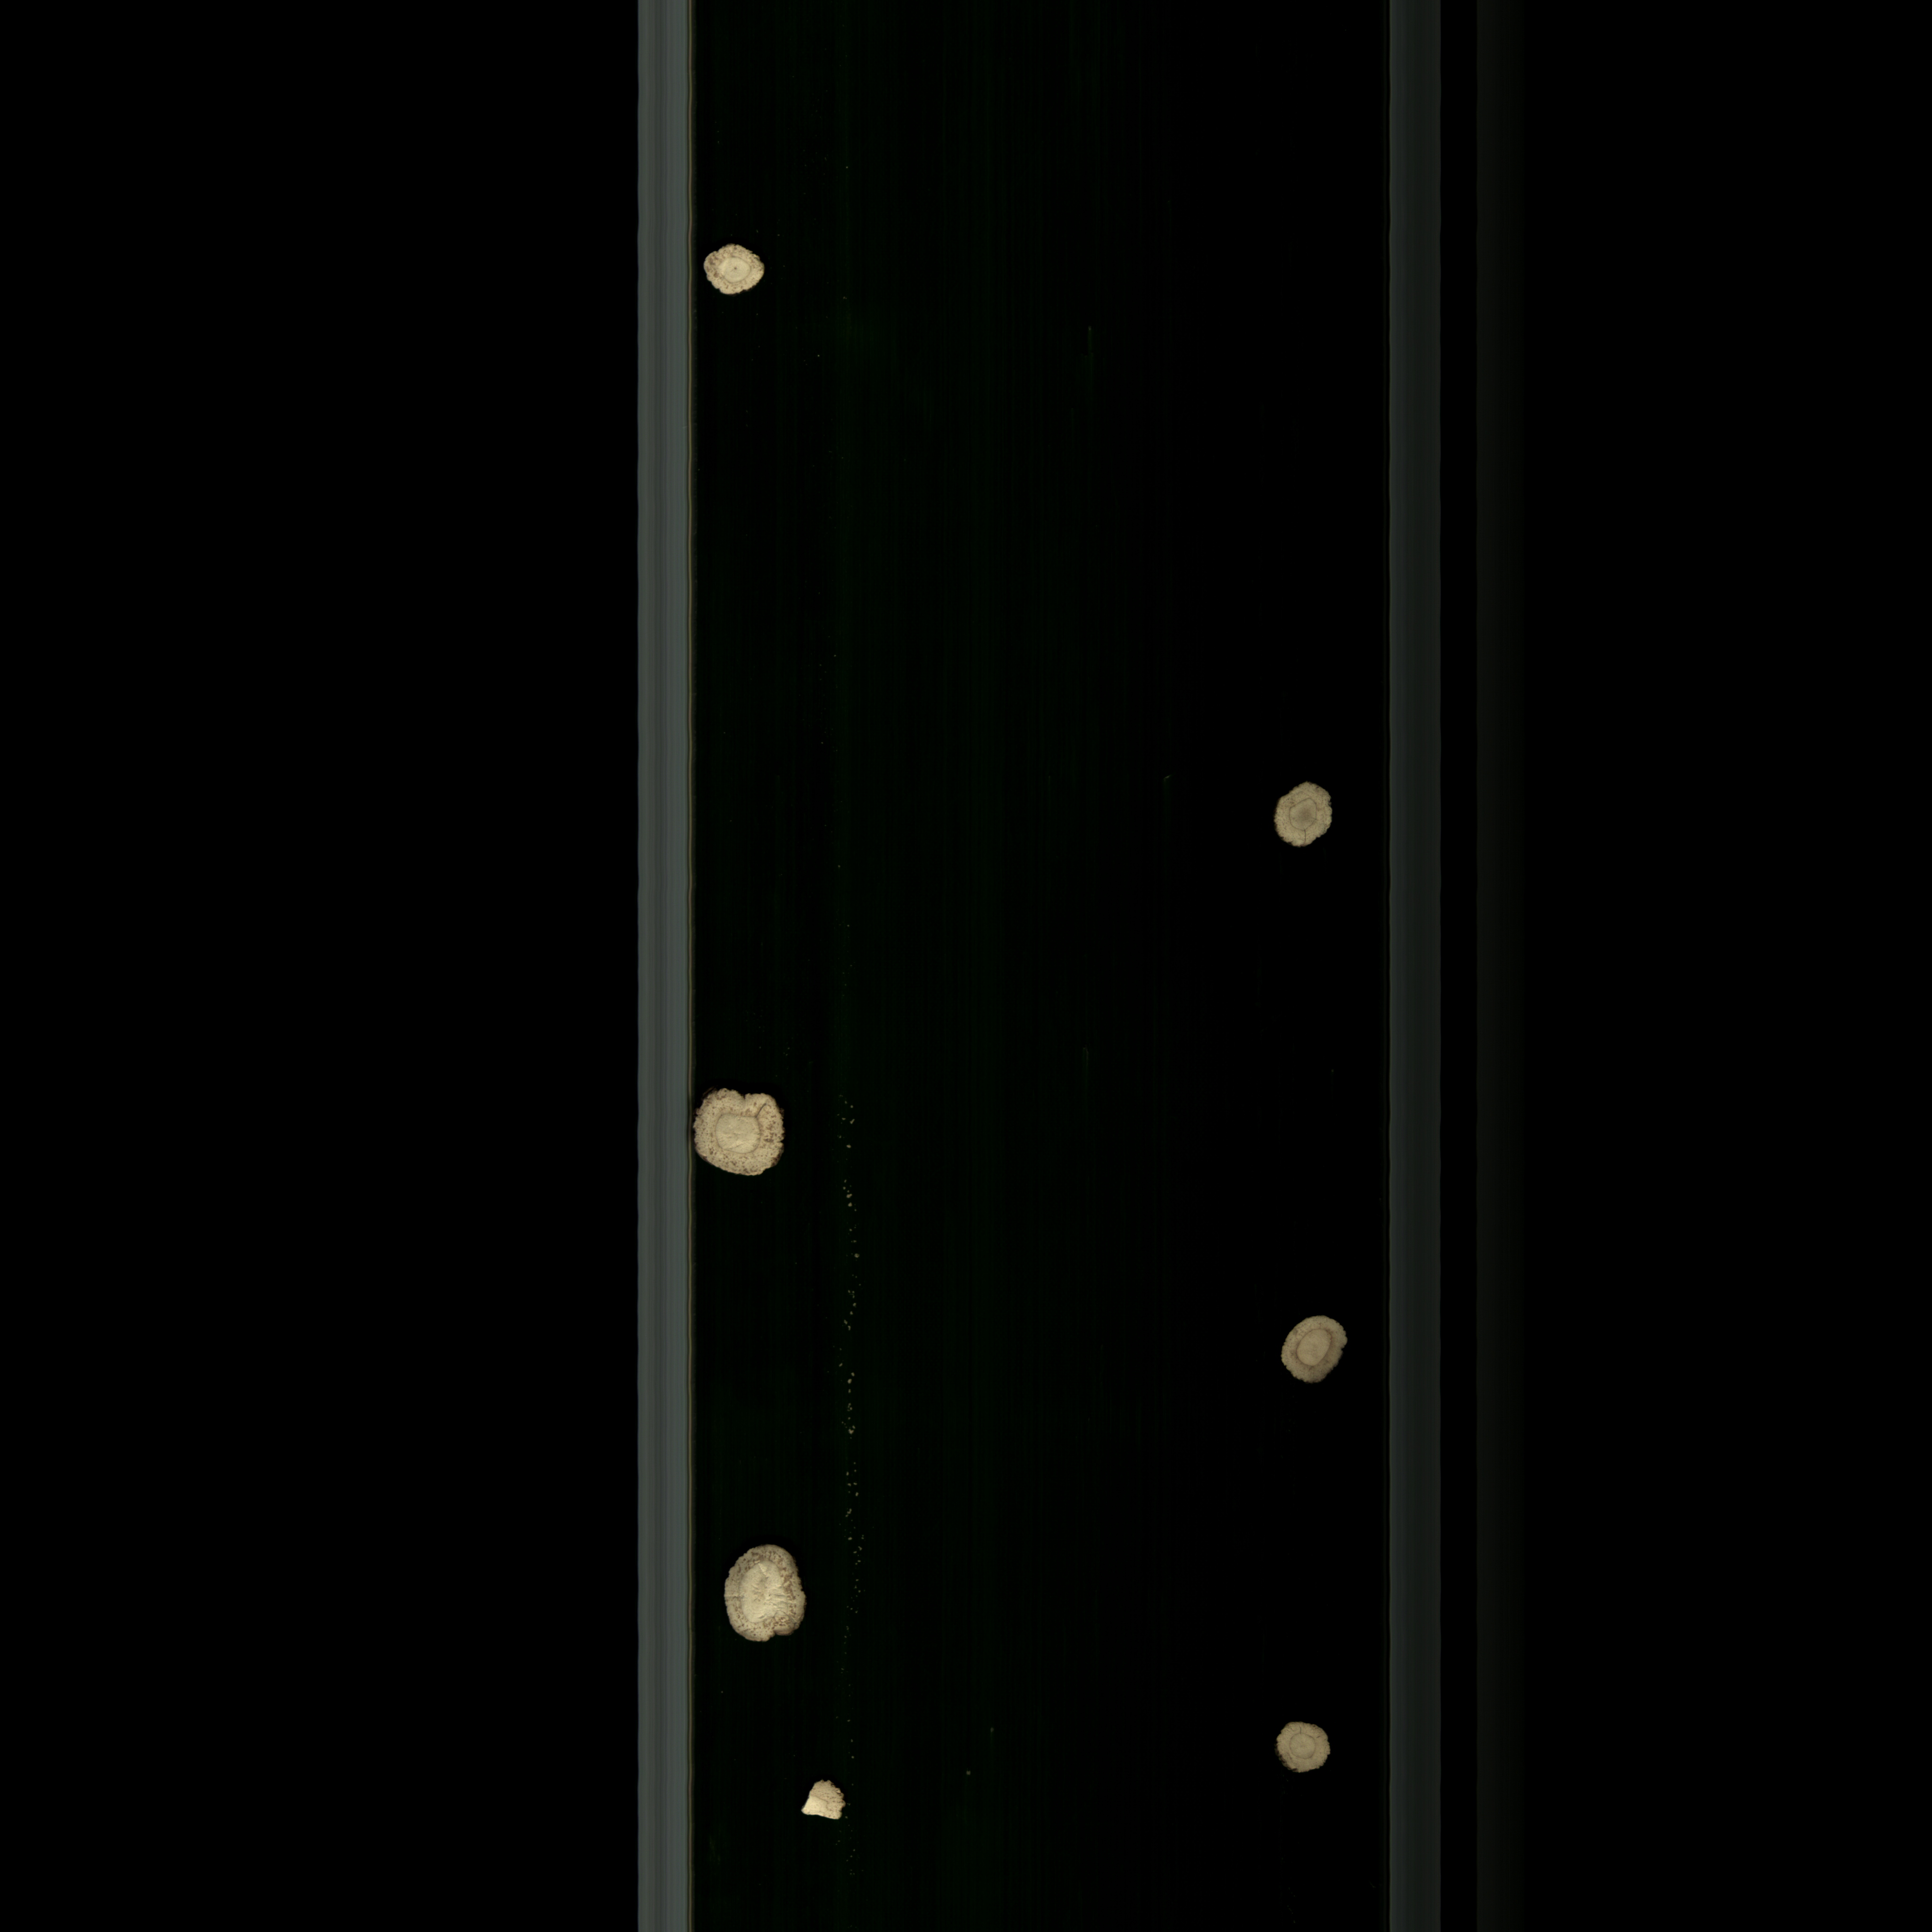distortion: (787, 1769, 865, 1831)
moldy: (720, 1536, 824, 1656), (690, 1076, 796, 1191), (1276, 1295, 1355, 1403), (1269, 775, 1343, 860), (695, 235, 771, 308)
